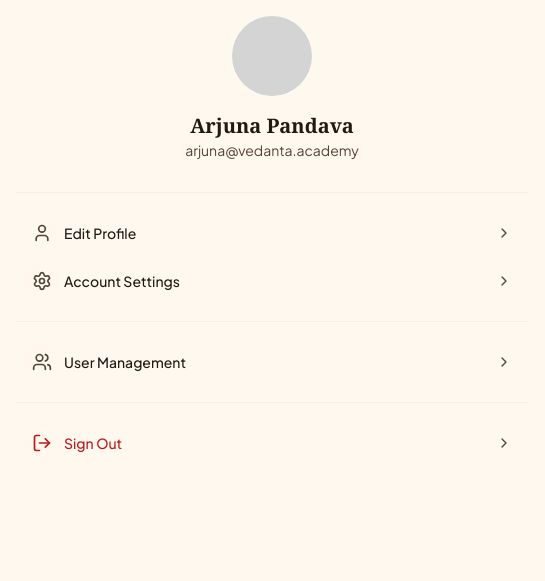
Scenario: ProfileContent › Account Settings (admin only) › hides role panel when Account Settings is clicked again
Click the button "Account Settings" at (122, 281), box [16,257,528,305]
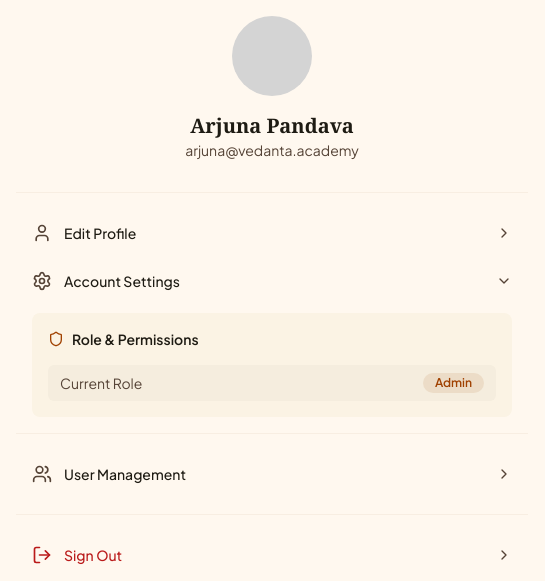
Now the text "Role & Permissions" is shown, box [72,329,199,349]
Click the button "Account Settings" at (122, 281), box [16,257,528,305]
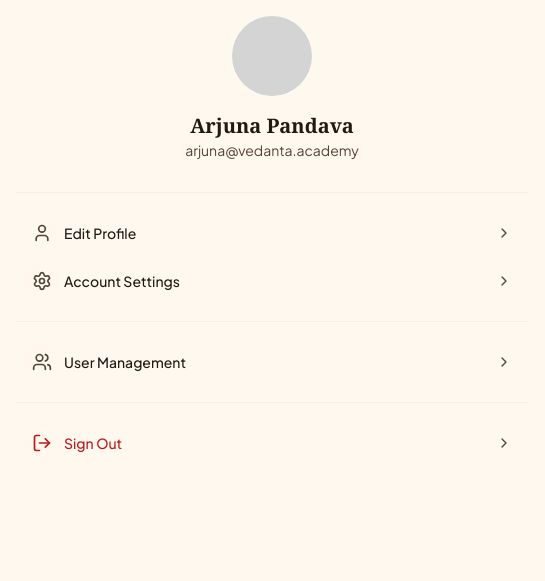
Now the text "Role & Permissions" is gone
